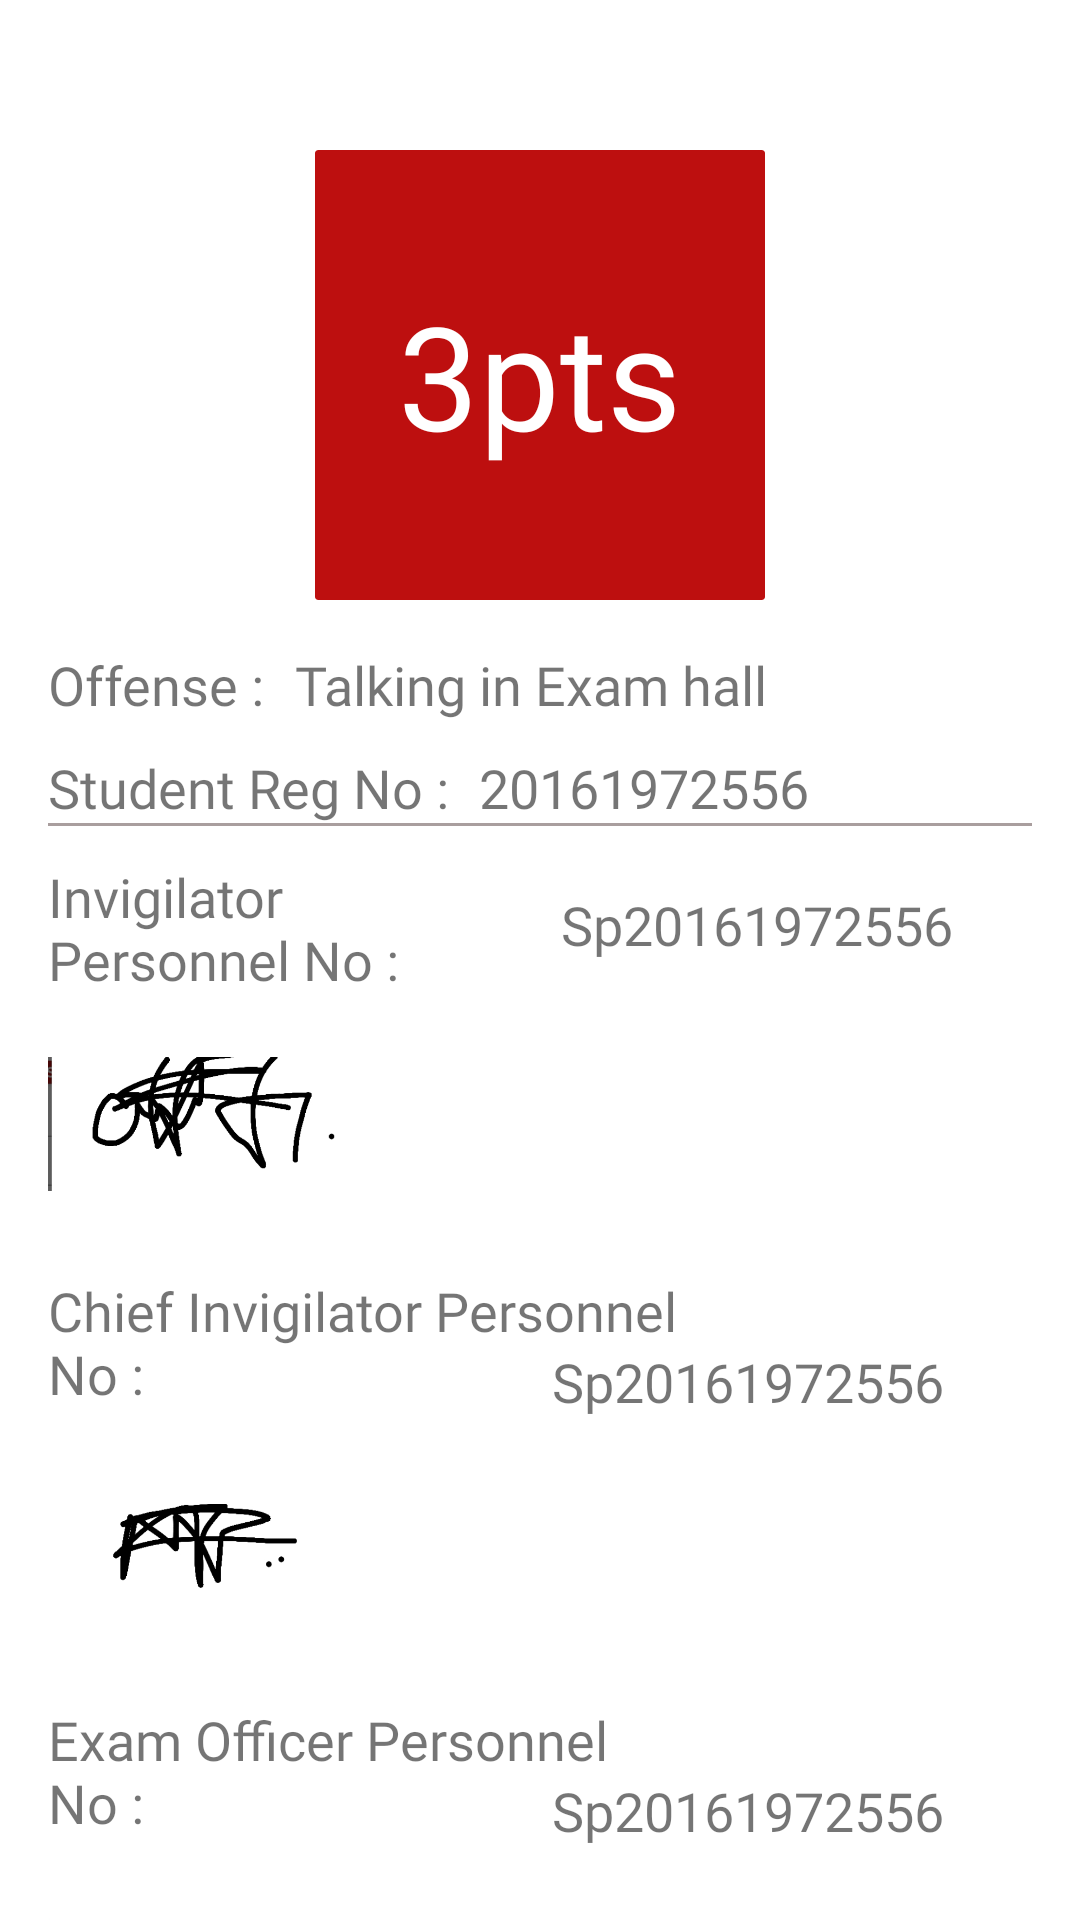

Named icons in this screenshot (1080 x 1920) and their centers, (x=x, y=y):
chiefsign: (x=205, y=1546)
invigilatorsign: (x=191, y=1124)
